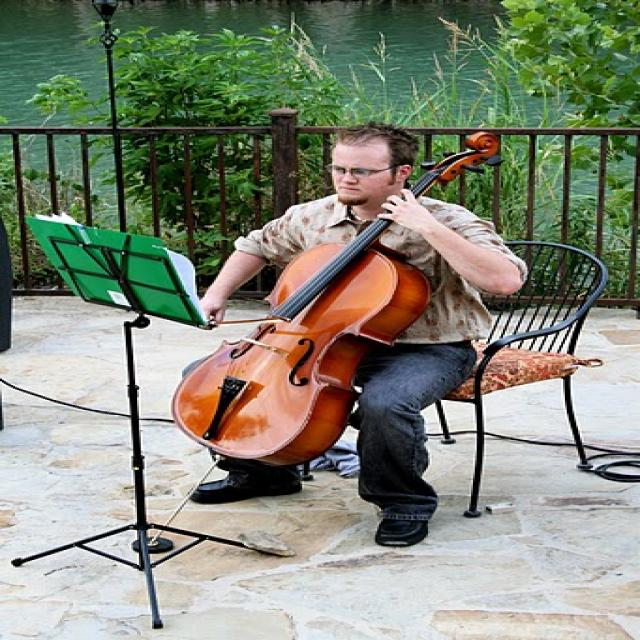cello: (171, 130, 507, 471)
